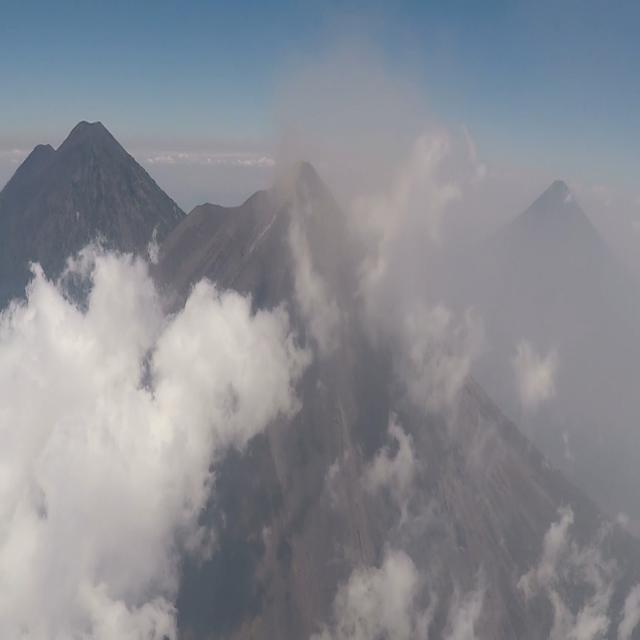Summit: (241, 150, 366, 243)
